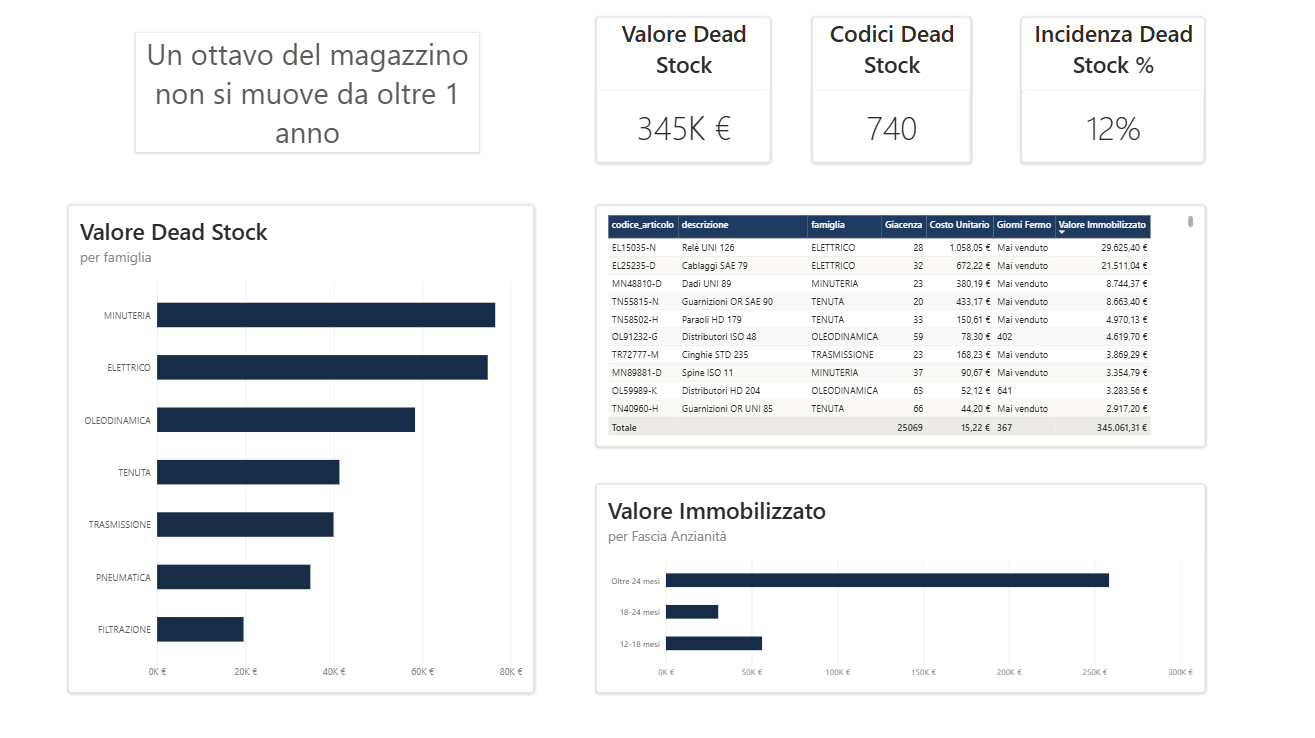

This screenshot's page, from the dashboard's own definition file:
{"tool":"powerbi","page":{"name":"Magazzino","canvas":[1920,1080],"ordinal":2},"visuals":[{"type":"textbox","box":[199.9,49.6,500.4,173.6],"z":0},{"type":"cardVisual","title":"Valore Dead Stock","fields":{"Data":["_Misure.Valore Dead Stock"]},"box":[871,26.3,255.3,213],"z":1000},{"type":"cardVisual","title":"Codici Dead Stock","fields":{"Data":["_Misure.Codici Dead Stock"]},"box":[1186.1,26.3,232,213],"z":2000},{"type":"cardVisual","title":"Incidenza Dead Stock %","fields":{"Data":["_Misure.Incidenza Dead Stock %"]},"box":[1491.1,26.3,268.4,213],"z":3000},{"type":"tableEx","fields":{"Values":["anagrafica_articoli.codice_articolo","anagrafica_articoli.descrizione","anagrafica_articoli.famiglia","_Misure.Giacenza","_Misure.Costo Unitario","_Misure.Giorni Fermo","_Misure.Valore Immobilizzato"]},"box":[871,300.5,888.5,353.1],"z":4000},{"type":"barChart","fields":{"Category":["anagrafica_articoli.famiglia"],"Y":["_Misure.Valore Dead Stock"]},"box":[100.7,300.5,679.9,712],"z":5000},{"type":"barChart","fields":{"Category":["anagrafica_articoli.Fascia Anzianità"],"Y":["_Misure.Valore Immobilizzato"]},"box":[871,707.6,888.5,304.9],"z":6000}]}

Visuals, with their boxes in screenshot pixels (x1, y1, x2, y2), scaled from the page's 1920x1080 canvas onto the 1315x738 screenshot:
textbox: bbox=(137, 34, 480, 153)
"Valore Dead Stock" cardVisual: bbox=(597, 18, 771, 164)
"Codici Dead Stock" cardVisual: bbox=(812, 18, 971, 164)
"Incidenza Dead Stock %" cardVisual: bbox=(1021, 18, 1205, 164)
tableEx - anagrafica_articoli.codice_articolo x anagrafica_articoli.descrizione: bbox=(597, 205, 1205, 447)
barChart - anagrafica_articoli.famiglia x _Misure.Valore Dead Stock: bbox=(69, 205, 535, 692)
barChart - anagrafica_articoli.Fascia Anzianità x _Misure.Valore Immobilizzato: bbox=(597, 484, 1205, 692)
